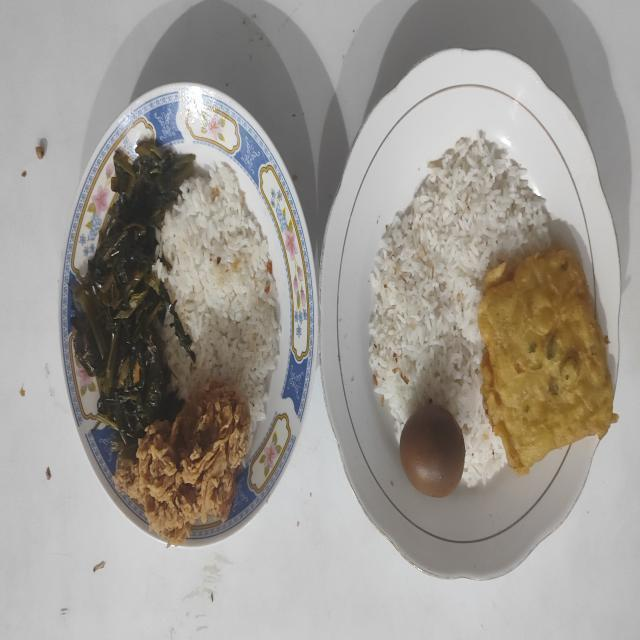nasi_putih: (369, 130, 550, 487), (153, 163, 280, 453)
tumis_kangkung: (70, 138, 198, 458)
